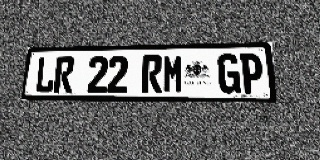2: (107, 55, 128, 93), (87, 56, 108, 93)
G: (217, 54, 241, 94)
L: (34, 57, 56, 93)
M: (162, 55, 183, 93)
P: (240, 53, 264, 94)
R: (53, 56, 75, 93), (141, 55, 162, 93)
